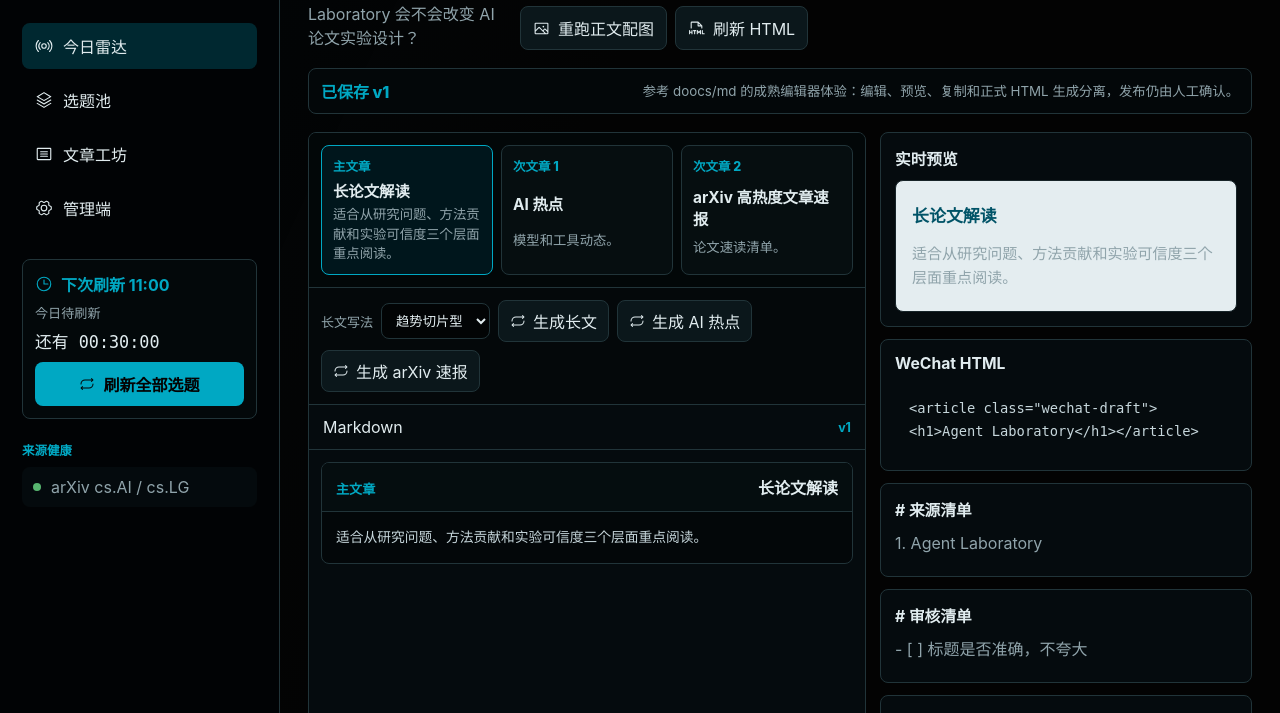
Test case: generates only the selected article module from the workshop action
The width and height of the screenshot is (1280, 713).
(page scrolled)
Click the button "生成长文" at [554, 321], box [498,300,609,342]
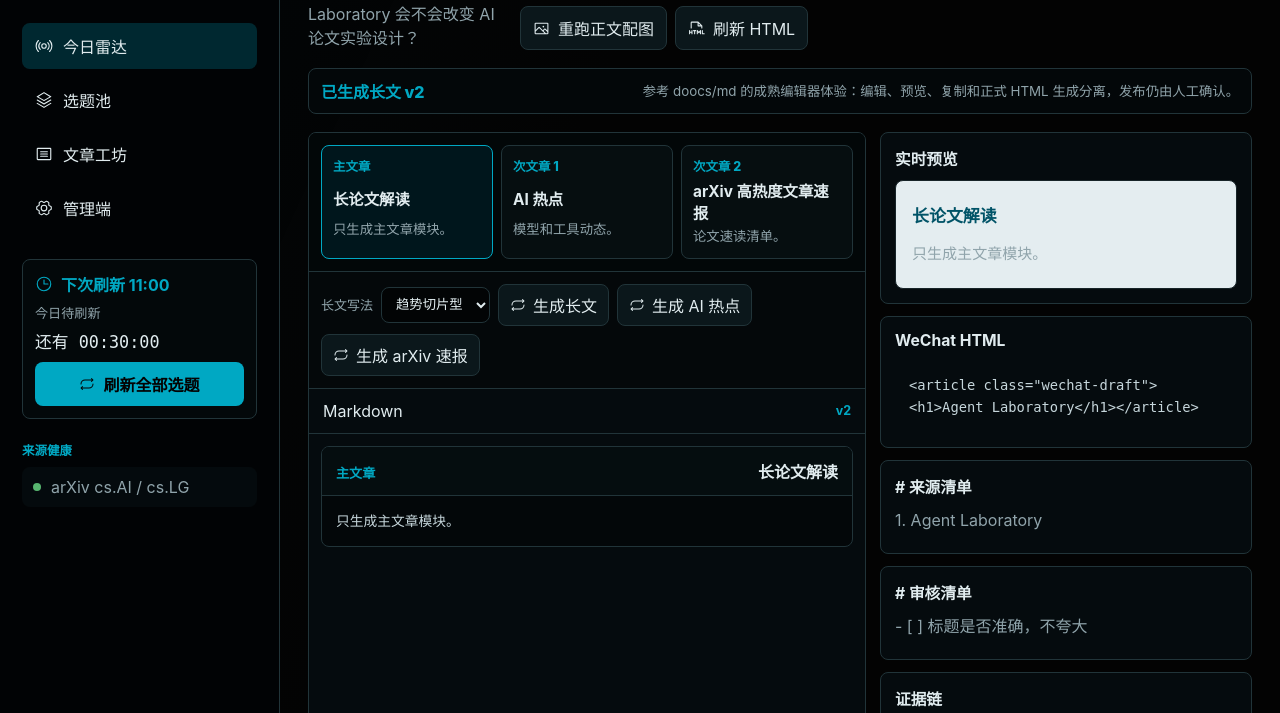
Now the 3rd text "只生成主文章模块。" is shown, box [336,512,460,528]
